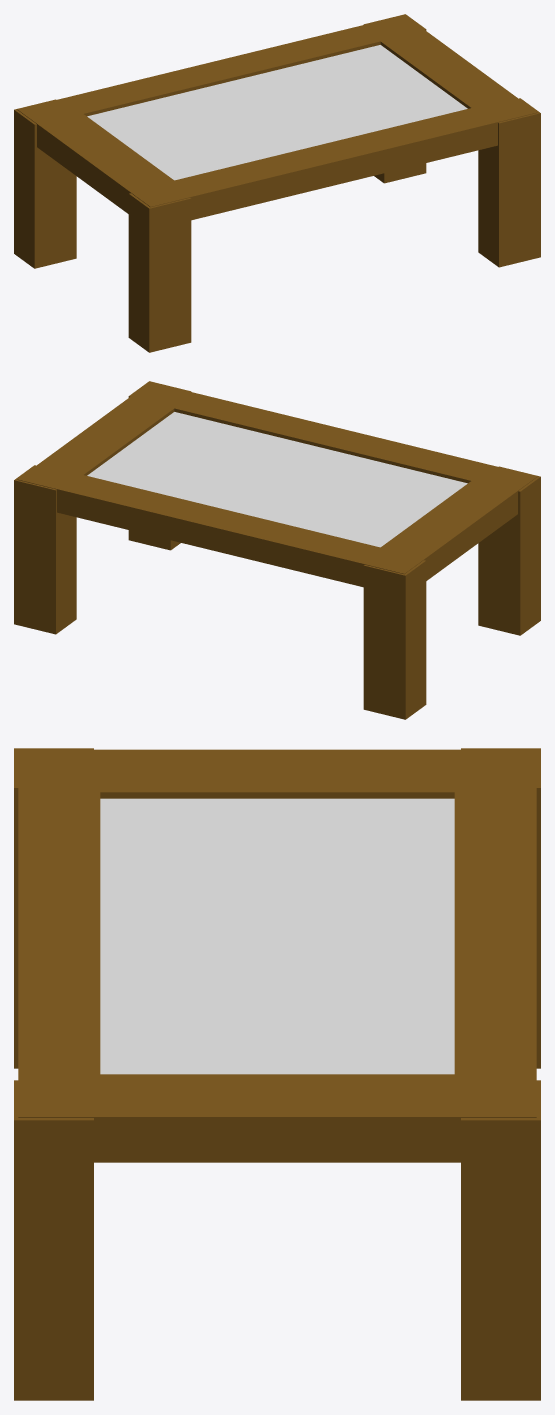
Rendered from mesa.fbx.
3 views of the same model, one above another, from view 1: azimuth 30°, elevation 25°; view 2: azimuth 150°, elevation 25°; view 3: azimuth 270°, elevation 25° (orthographic). The views are drawn at different scales.
Visible parts, largest first — view 1: Cube, Cube.001, Cube.005; view 2: Cube, Cube.001, Cube.005; view 3: Cube, Cube.005, Cube.001.
Boxes of the visible parts, <box> form: Cube: <box>17,15,537,220</box>; Cube.001: <box>14,14,540,352</box>; Cube.005: <box>87,45,467,180</box>; Cube: <box>17,382,537,587</box>; Cube.001: <box>14,381,540,719</box>; Cube.005: <box>87,412,467,547</box>; Cube: <box>18,749,536,1162</box>; Cube.005: <box>100,798,454,1074</box>; Cube.001: <box>14,748,540,1400</box>.
Bounding box in the file's own units: 114 × 40.31 × 68.42.
